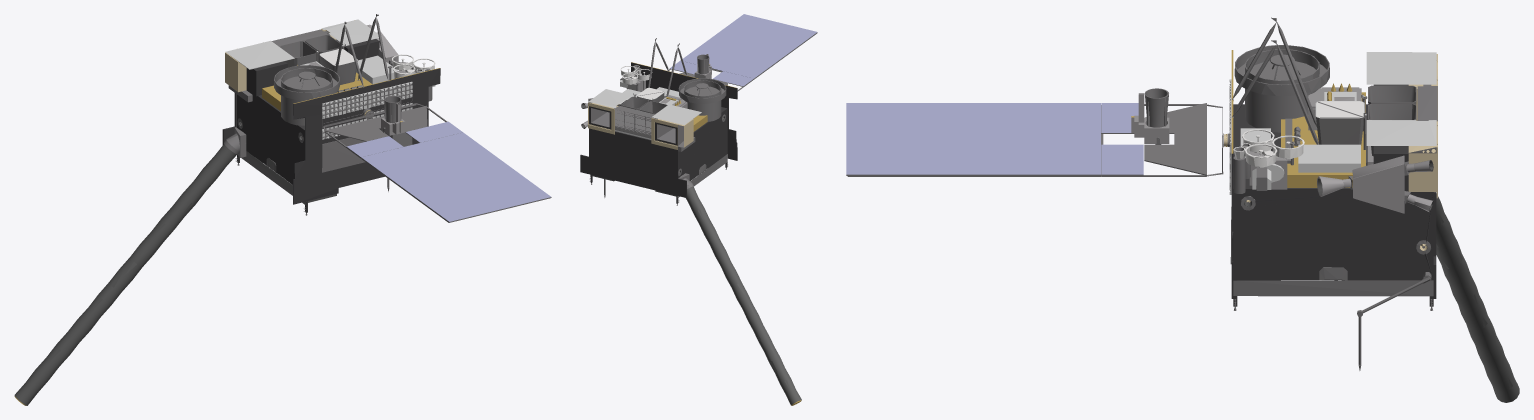
File: goes.glb
The picture shows the model from 3 angles, left to right: view 1: azimuth 30°, elevation 25°; view 2: azimuth 150°, elevation 25°; view 3: azimuth 270°, elevation 25°; orthographic projection. The views are drawn at different scales.
Visible parts, largest first — view 1: bus, wing-Y; view 2: bus, wing-Y; view 3: bus, wing-Y.
Boxes of the visible parts, bbox=[...] form: bus: bbox=[14, 14, 440, 405]; wing-Y: bbox=[324, 96, 551, 222]; bus: bbox=[580, 38, 801, 405]; wing-Y: bbox=[667, 14, 817, 91]; bus: bbox=[1207, 17, 1519, 402]; wing-Y: bbox=[846, 88, 1206, 176].
Bounding box in the file's own units: 11.14 × 12.2 × 13.44.
